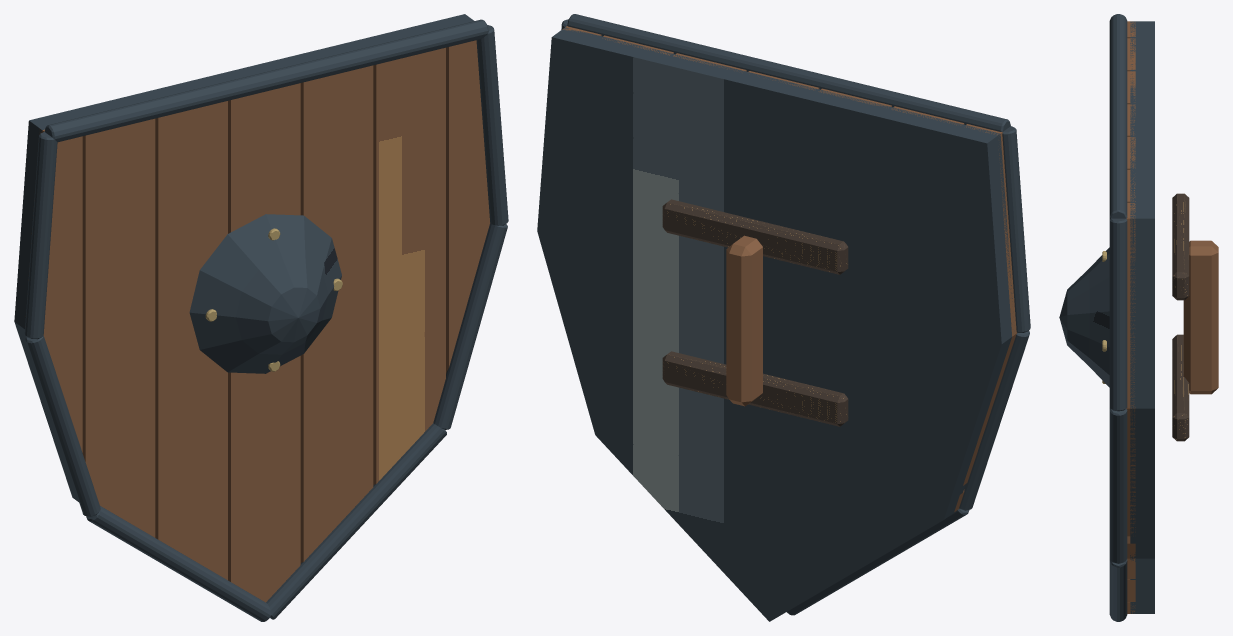
Rendered from shield-crafted.glb.
3 renders of one model, left to right at view 1: azimuth 30°, elevation 25°; view 2: azimuth 150°, elevation 25°; view 3: azimuth 270°, elevation 25°, orthographic. The views are drawn at different scales.
Parts seen in each view (by area): view 1: shield-crafted runtime mesh; view 2: shield-crafted runtime mesh; view 3: shield-crafted runtime mesh.
Part boxes in pixels (x1,y1,x2,y2): shield-crafted runtime mesh: (14,14,508,621); shield-crafted runtime mesh: (537,14,1030,621); shield-crafted runtime mesh: (1059,14,1218,621).
Size of the model in its own units: 0.6621 by 0.7189 by 0.2045.
Materials: 4 (3 with a texture image).
